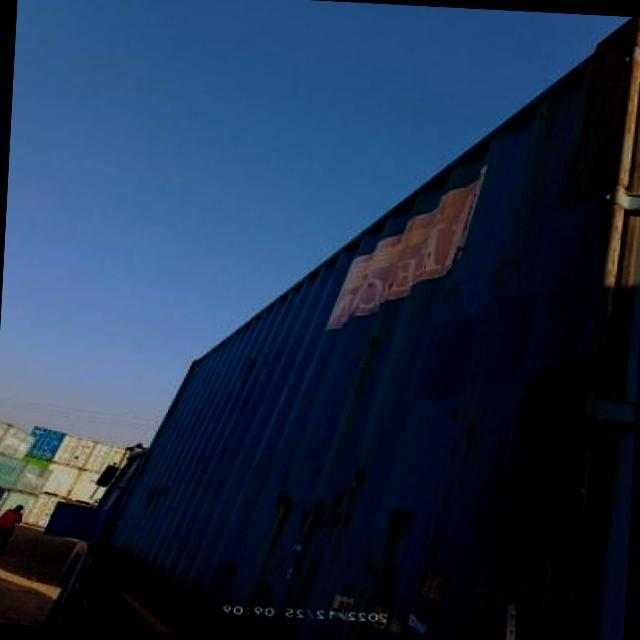rust: (493, 353, 608, 640)
